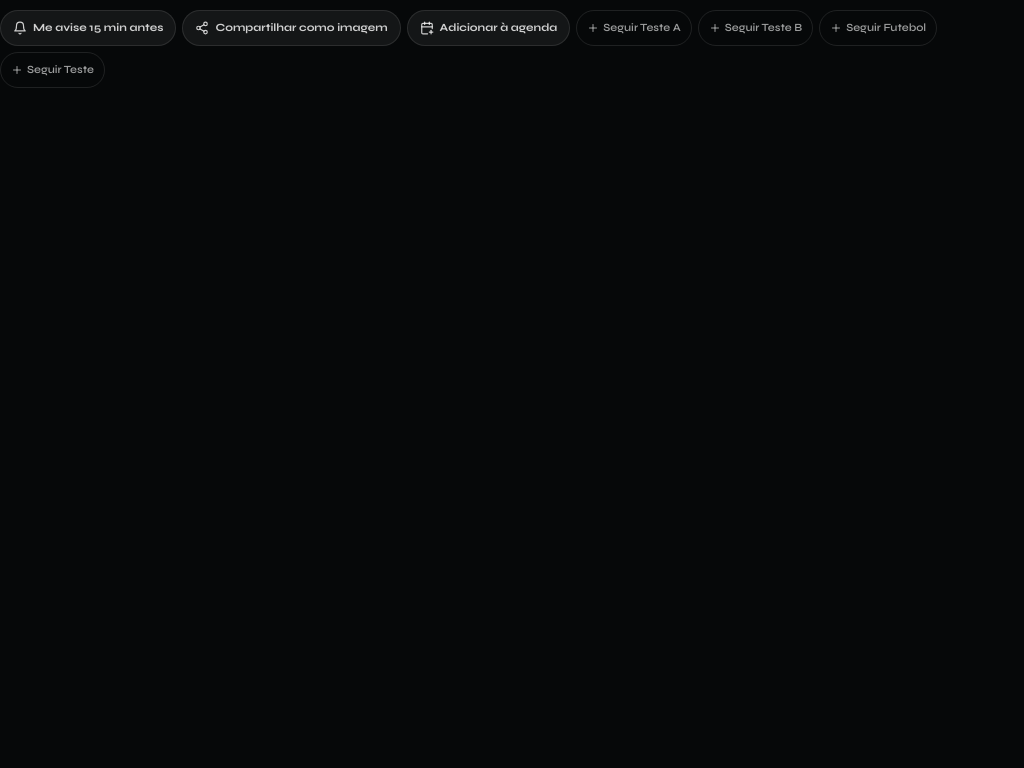
Test case: GameActions — ajuda de permissão do sino › permissão denied no PWA Android: caminho principal é o Chrome, não só o app
Click the button with aria-label "Me avise 15 min antes de Teste A": (88, 28) x1=0 y1=10 x2=176 y2=46
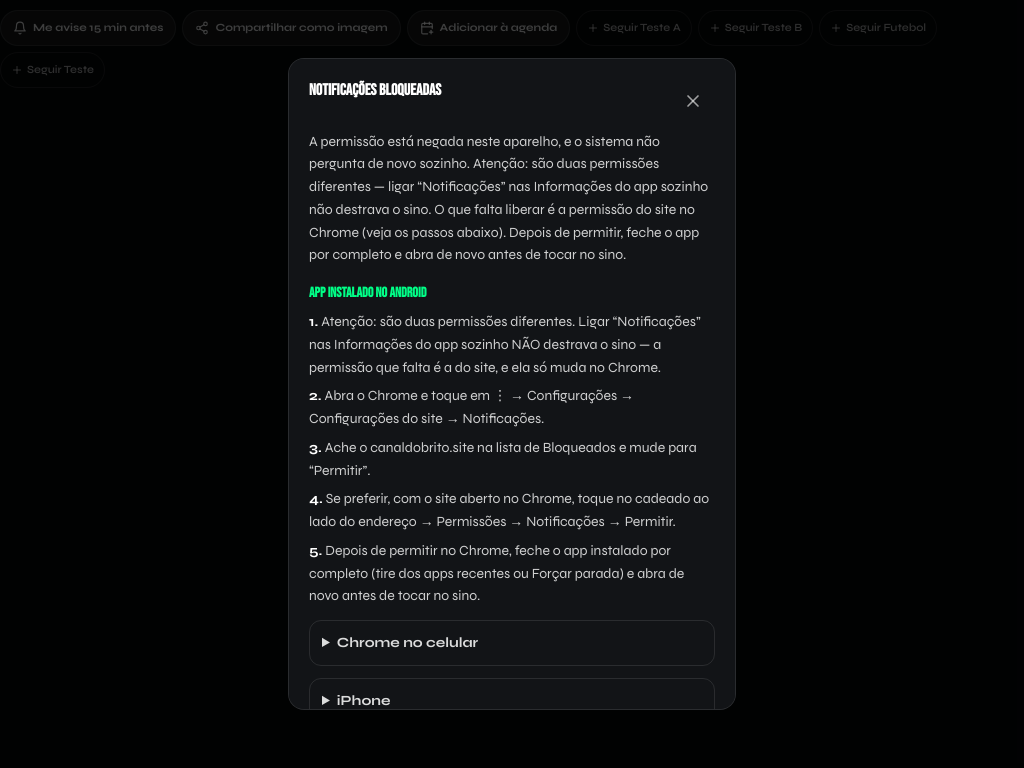
Check: the dialog "Notificações bloqueadas" is shown
Check: the heading "App instalado no Android" is shown, box x1=309 y1=284 x2=426 y2=301
Check: the list item "sozinho NÃO destrava o sino" is shown, box x1=309 y1=313 x2=701 y2=376
